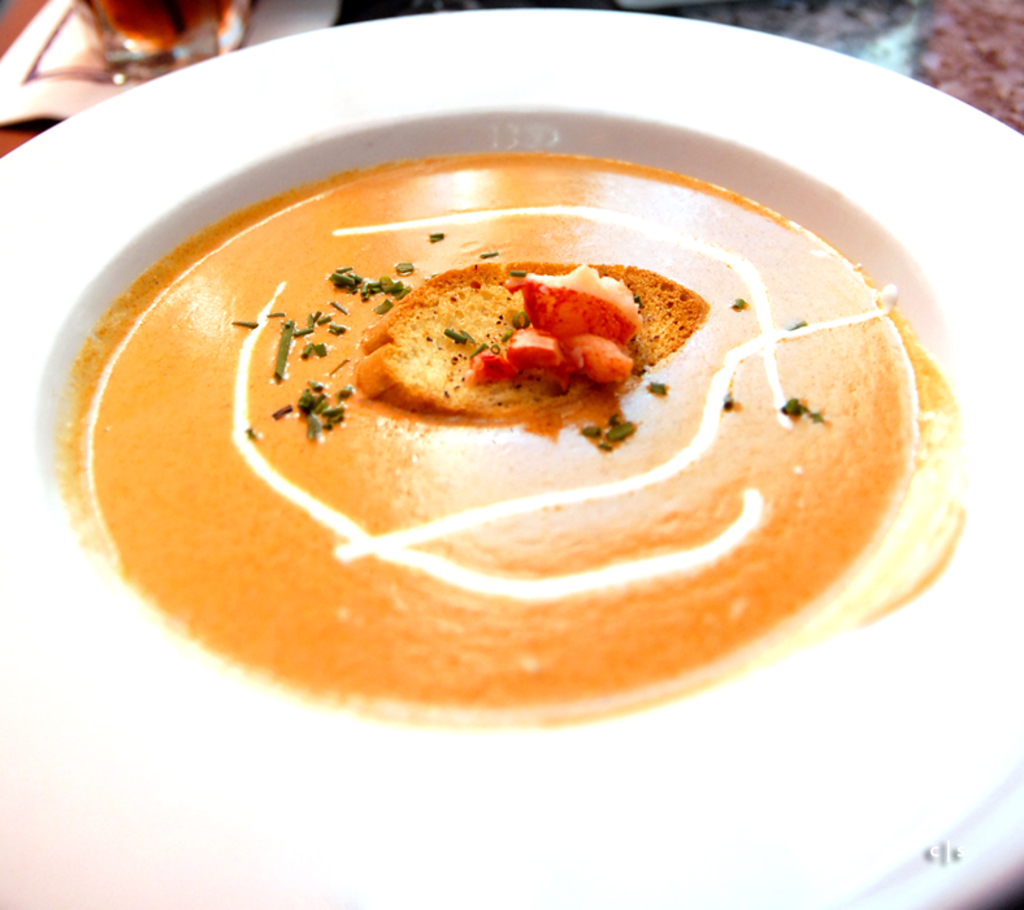person: (0, 0, 343, 163)
